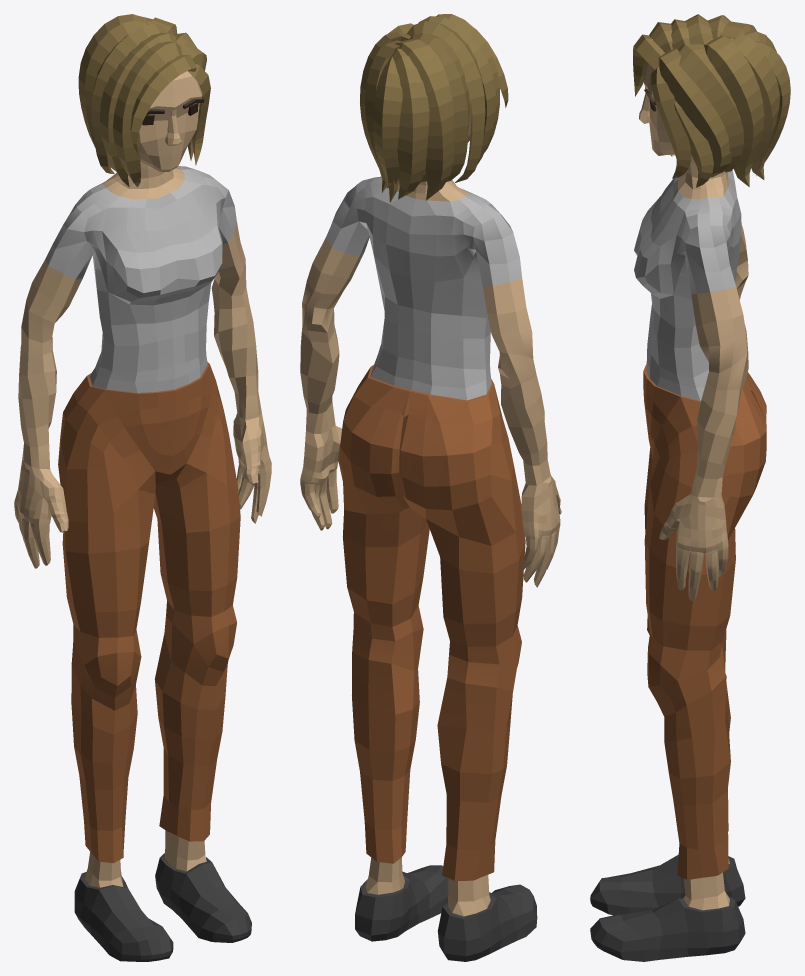
The model's file is woman-casual.glb.
3 views of the same model, side by side, from view 1: azimuth 30°, elevation 25°; view 2: azimuth 150°, elevation 25°; view 3: azimuth 270°, elevation 25° (orthographic). The views are drawn at different scales.
Visible parts, largest first — view 1: Casual_Legs, Casual_Body, Casual_Head, Casual_Feet; view 2: Casual_Legs, Casual_Body, Casual_Head, Casual_Feet; view 3: Casual_Legs, Casual_Body, Casual_Head, Casual_Feet.
Boxes of the visible parts, left/top/right/bottom form: Casual_Legs: left=58, top=362, right=240, bottom=863; Casual_Body: left=14, top=166, right=271, bottom=568; Casual_Head: left=78, top=14, right=210, bottom=187; Casual_Feet: left=74, top=830, right=251, bottom=961; Casual_Legs: left=338, top=365, right=525, bottom=880; Casual_Body: left=300, top=176, right=561, bottom=587; Casual_Head: left=360, top=14, right=508, bottom=202; Casual_Feet: left=355, top=857, right=537, bottom=961; Casual_Legs: left=643, top=364, right=766, bottom=879; Casual_Body: left=634, top=170, right=748, bottom=600; Casual_Head: left=633, top=14, right=790, bottom=187; Casual_Feet: left=590, top=854, right=745, bottom=961.
Bounding box in the file's own units: 0.5211 × 1.85 × 0.3687.
